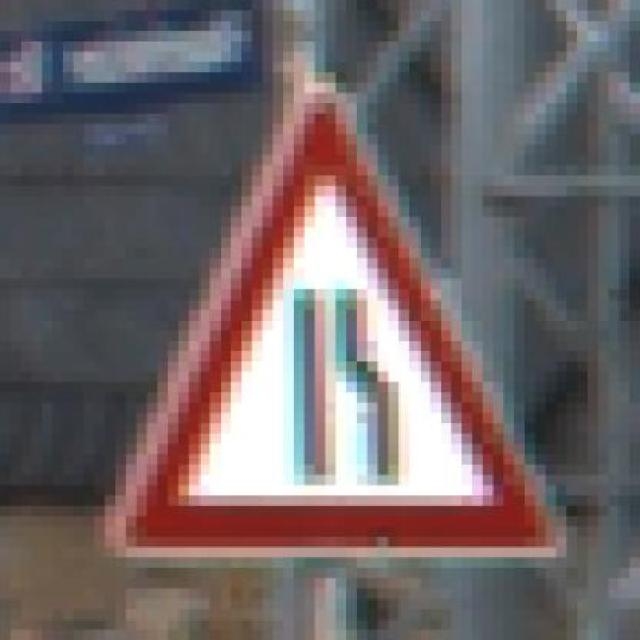-Road narrows on right: (79, 61, 573, 578)
